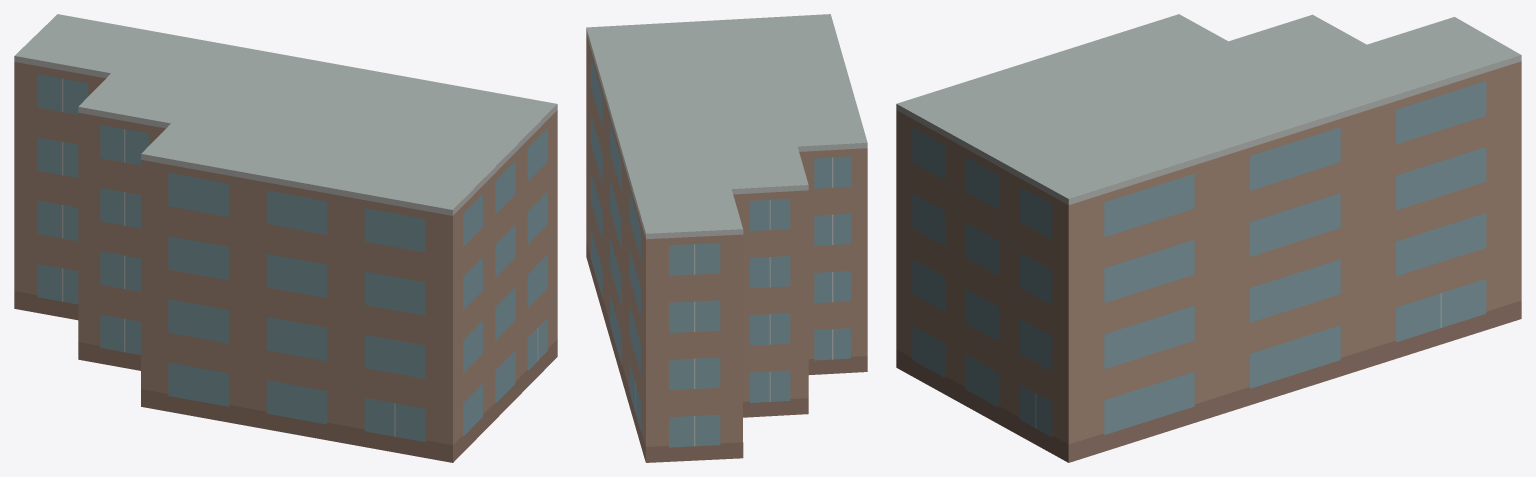
Rendered from survey-upis-32583235.glb.
3 renders of one model, left to right at view 1: azimuth 30°, elevation 25°; view 2: azimuth 150°, elevation 25°; view 3: azimuth 270°, elevation 25°, orthographic. The views are drawn at different scales.
Visible parts, largest first — view 1: survey-upis-32583235.tmp; view 2: survey-upis-32583235.tmp; view 3: survey-upis-32583235.tmp.
Boxes of the visible parts, box(x1,y1,x2,y2) form: survey-upis-32583235.tmp: box(14, 14, 557, 462); survey-upis-32583235.tmp: box(586, 14, 867, 462); survey-upis-32583235.tmp: box(896, 14, 1521, 462).
Bounding box in the file's own units: 15.65 × 10.4 × 22.35.
